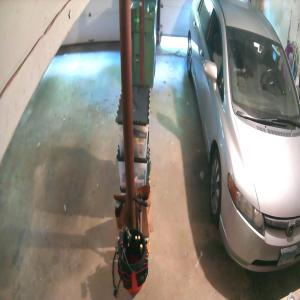garbage bin: (130, 0, 157, 89)
honda civic: (189, 0, 300, 276)
tool bucket: (118, 227, 149, 296)
